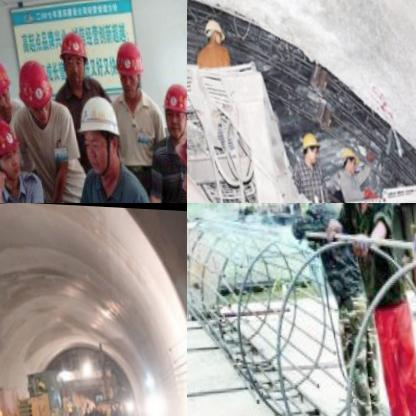helmet: (73, 91, 126, 179), (13, 54, 57, 122), (110, 30, 148, 100), (53, 25, 88, 88), (158, 79, 187, 139), (0, 115, 22, 181), (0, 50, 15, 122), (299, 126, 322, 165), (337, 143, 362, 174), (203, 13, 226, 46), (304, 203, 345, 217), (2, 408, 19, 416)
